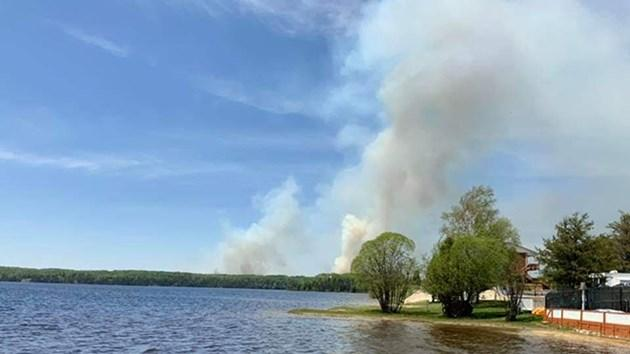smoke: (415, 82, 475, 154)
